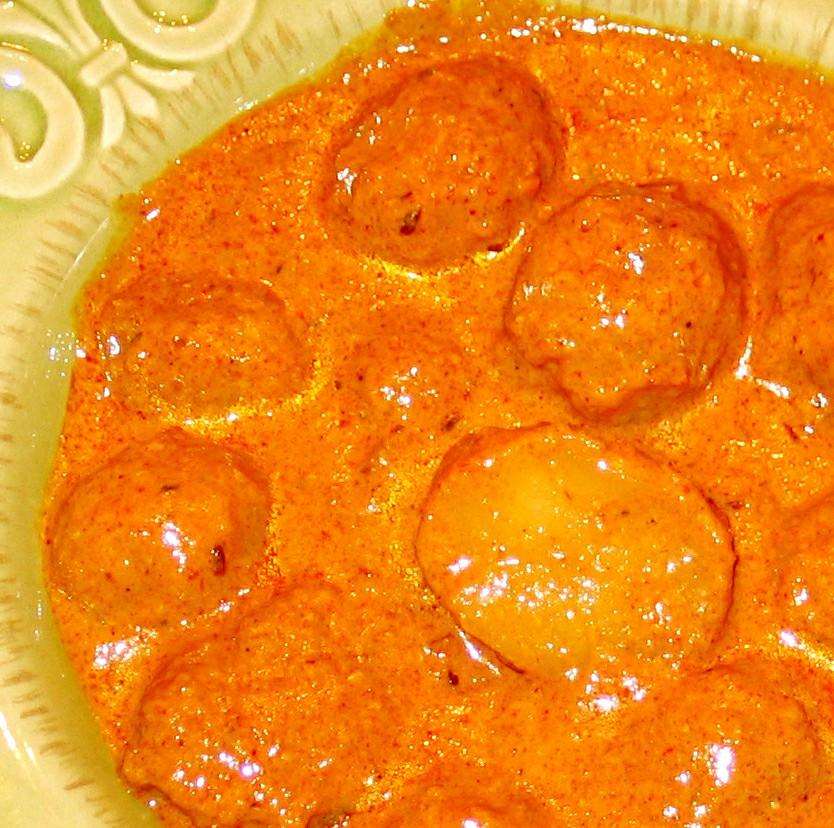DumAloo: (56, 12, 834, 828)
